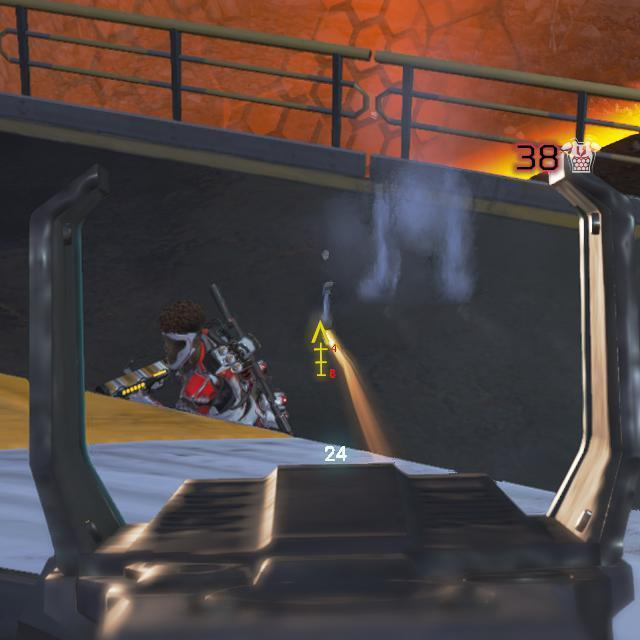avatar: (100, 297, 292, 430)
